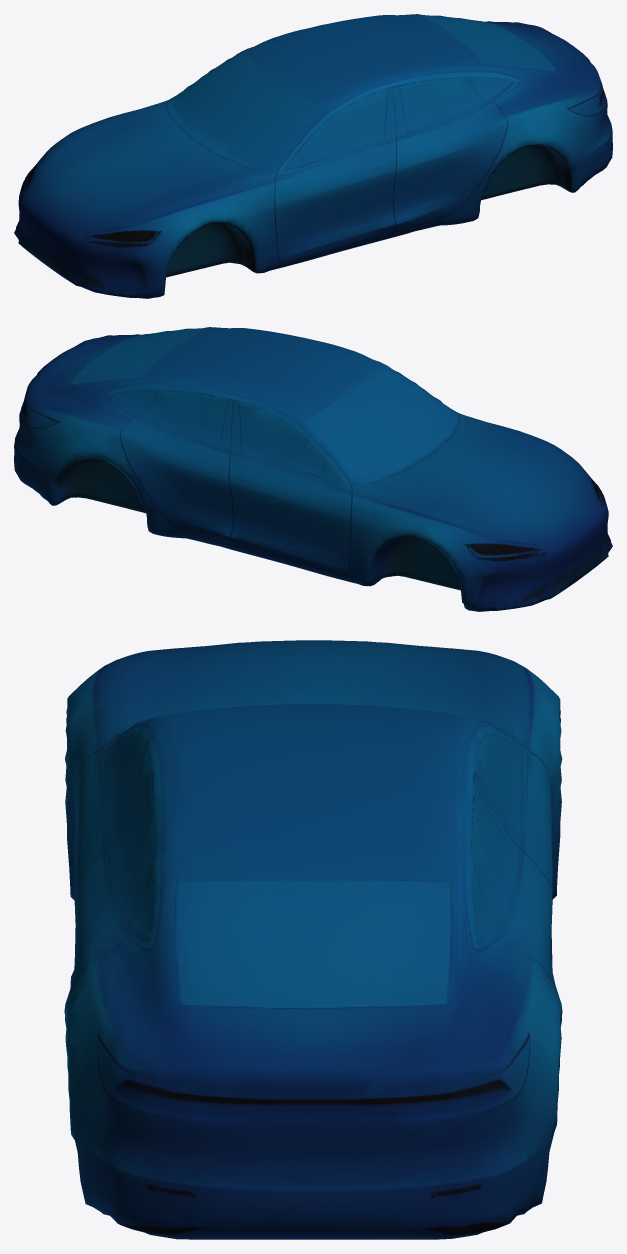
Rendered from car-body-final.glb.
The picture shows the model from 3 angles, top to bottom: view 1: azimuth 30°, elevation 25°; view 2: azimuth 150°, elevation 25°; view 3: azimuth 270°, elevation 25°; orthographic projection. The views are drawn at different scales.
Parts seen in each view (by area): view 1: material; view 2: material; view 3: material.
Part boxes in pixels (<box>): material: <box>14,14,612,298</box>; material: <box>14,327,612,611</box>; material: <box>64,640,562,1239</box>.
Bounding box in the file's own units: 1.16 × 0.3051 × 0.4619.
Materials: 1 (1 with a texture image).
